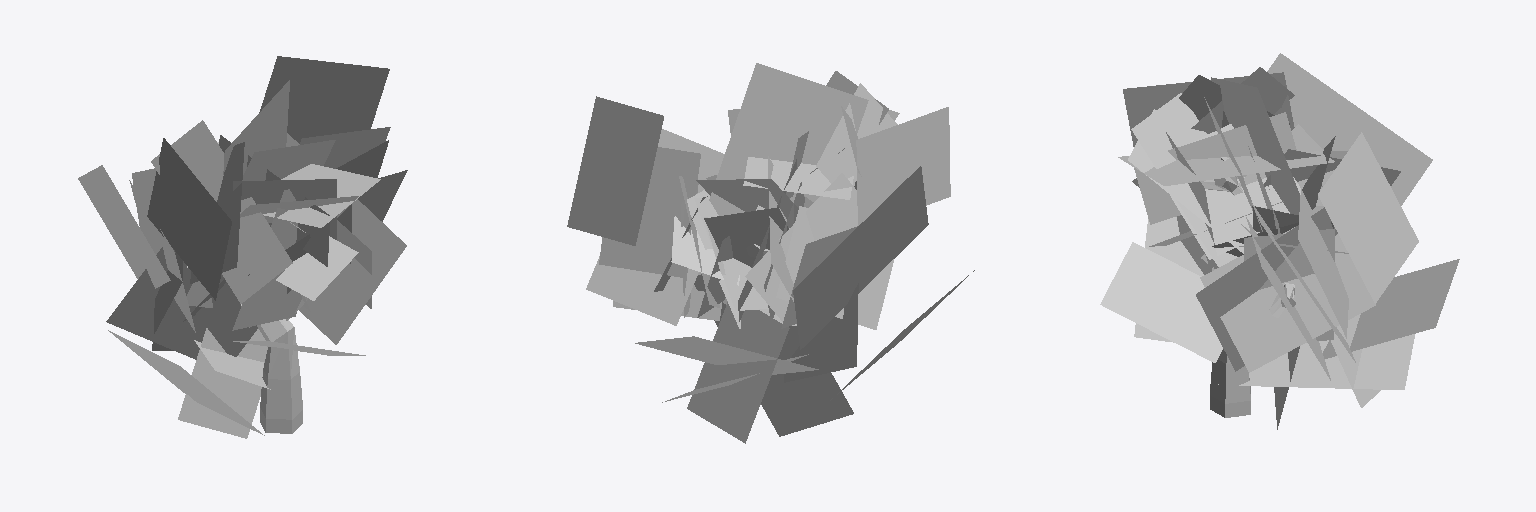
File: shrub2.obj
3 renders of one model, left to right at view 1: azimuth 30°, elevation 25°; view 2: azimuth 150°, elevation 25°; view 3: azimuth 270°, elevation 25°, orthographic.
Bounding box in the file's own units: 4.5 × 5.03 × 4.57.